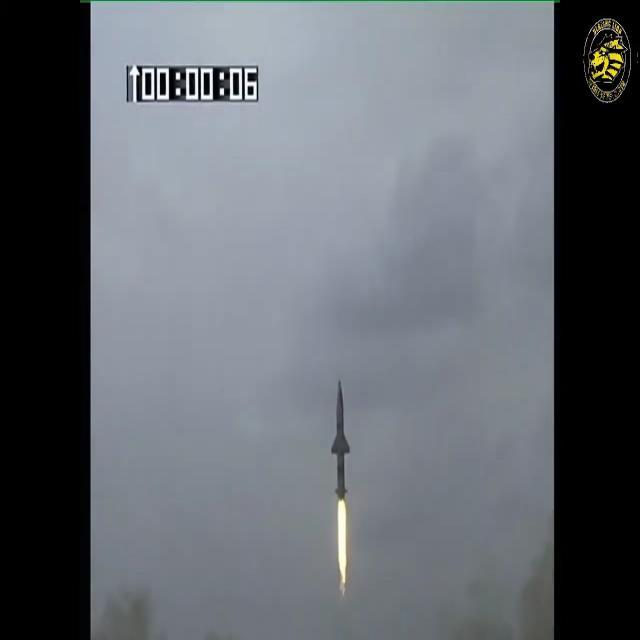missile: (332, 378, 352, 506)
